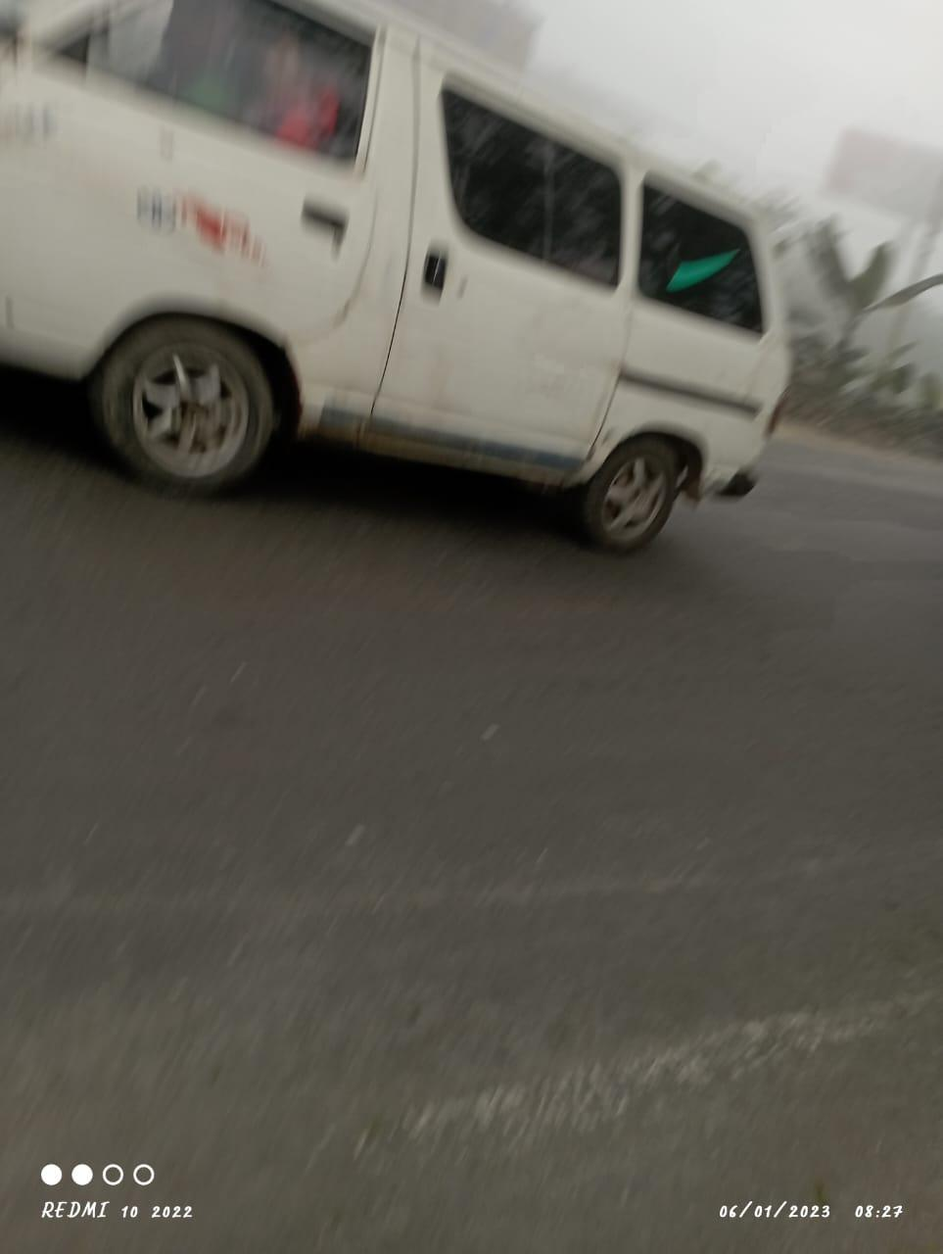Car: (12, 5, 816, 563)
